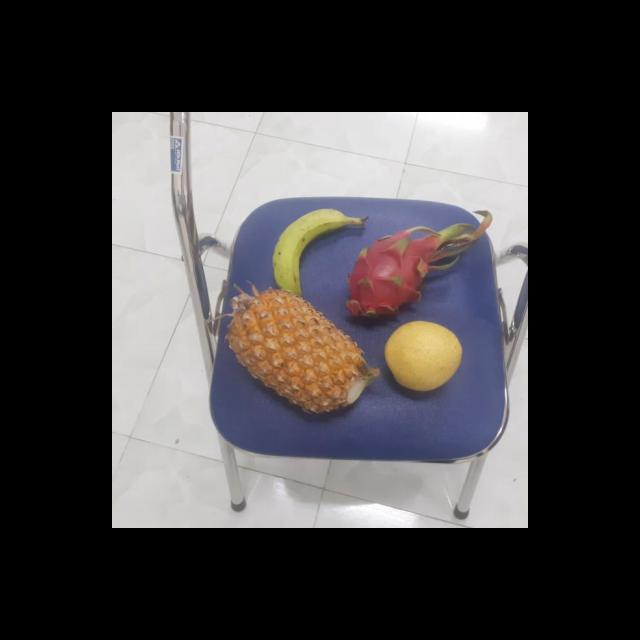banana: (268, 207, 358, 295)
pear: (380, 323, 464, 395)
pineapple: (225, 286, 375, 414)
pitaya: (342, 230, 442, 322)
